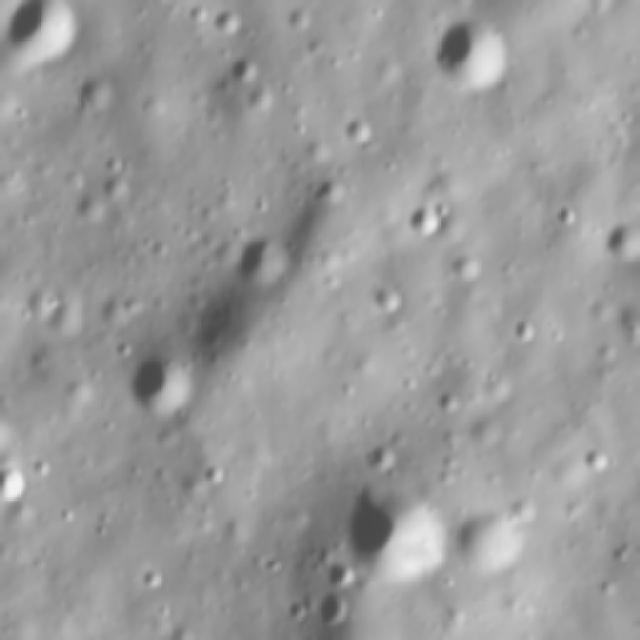crater: (345, 481, 447, 576), (0, 0, 100, 71), (426, 15, 511, 94), (123, 342, 206, 418), (462, 499, 532, 579), (382, 194, 450, 252), (230, 228, 288, 289), (0, 393, 31, 473), (222, 55, 262, 97), (314, 588, 354, 630), (70, 79, 113, 115), (0, 463, 31, 505), (321, 557, 361, 589)
